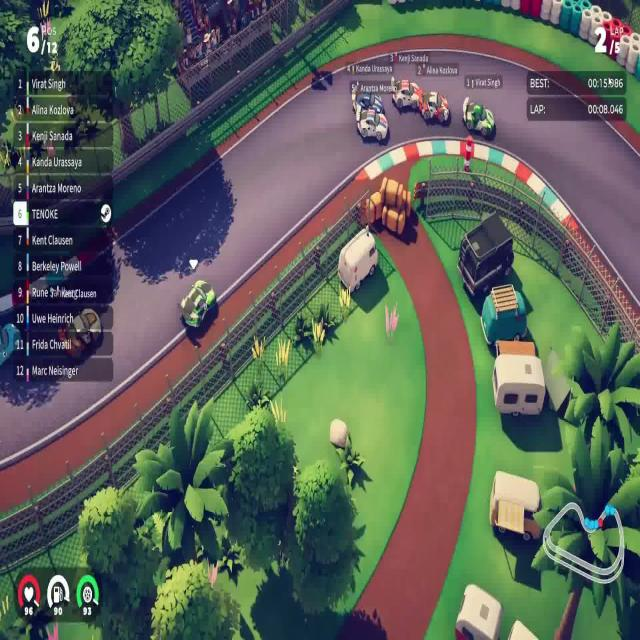car: (179, 278, 217, 330), (462, 95, 495, 138), (356, 105, 388, 144), (390, 76, 423, 112), (352, 81, 385, 117), (420, 89, 450, 124)
